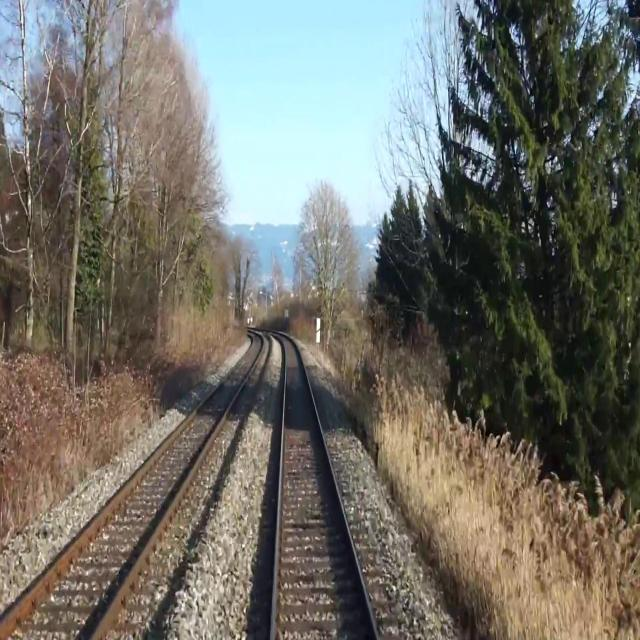rail-track: (0, 334, 262, 639), (274, 337, 374, 639)
